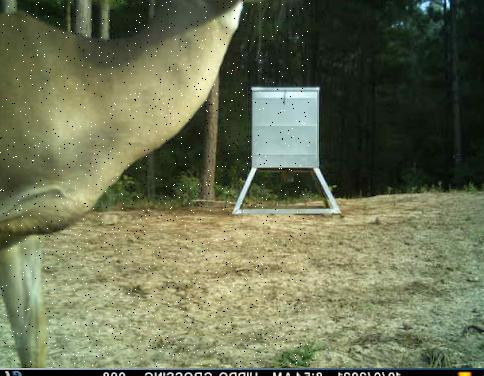Deer: (0, 0, 310, 368)
